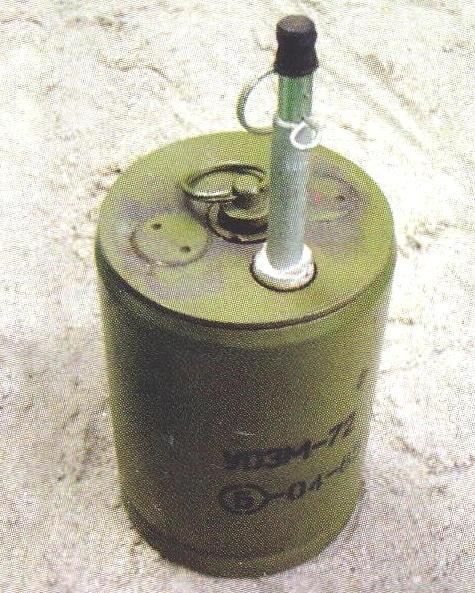OZM 72: (94, 16, 396, 580)
